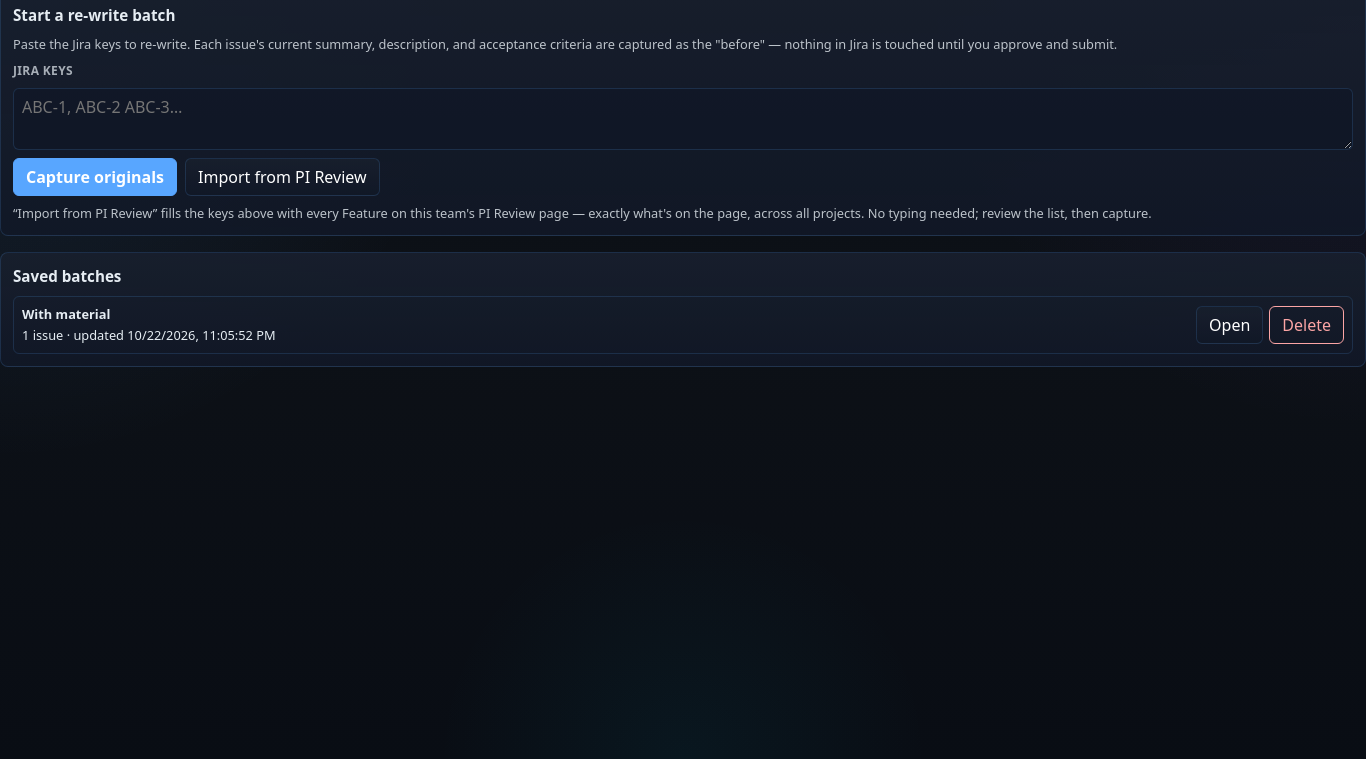
BulkRewriteTab shared material › lists material the batch already carries, so a PO returning days later sees it
The width and height of the screenshot is (1366, 759).
Click the button "Open". click: click(1230, 325)
box: [1196,306,1263,344]
(page scrolled)
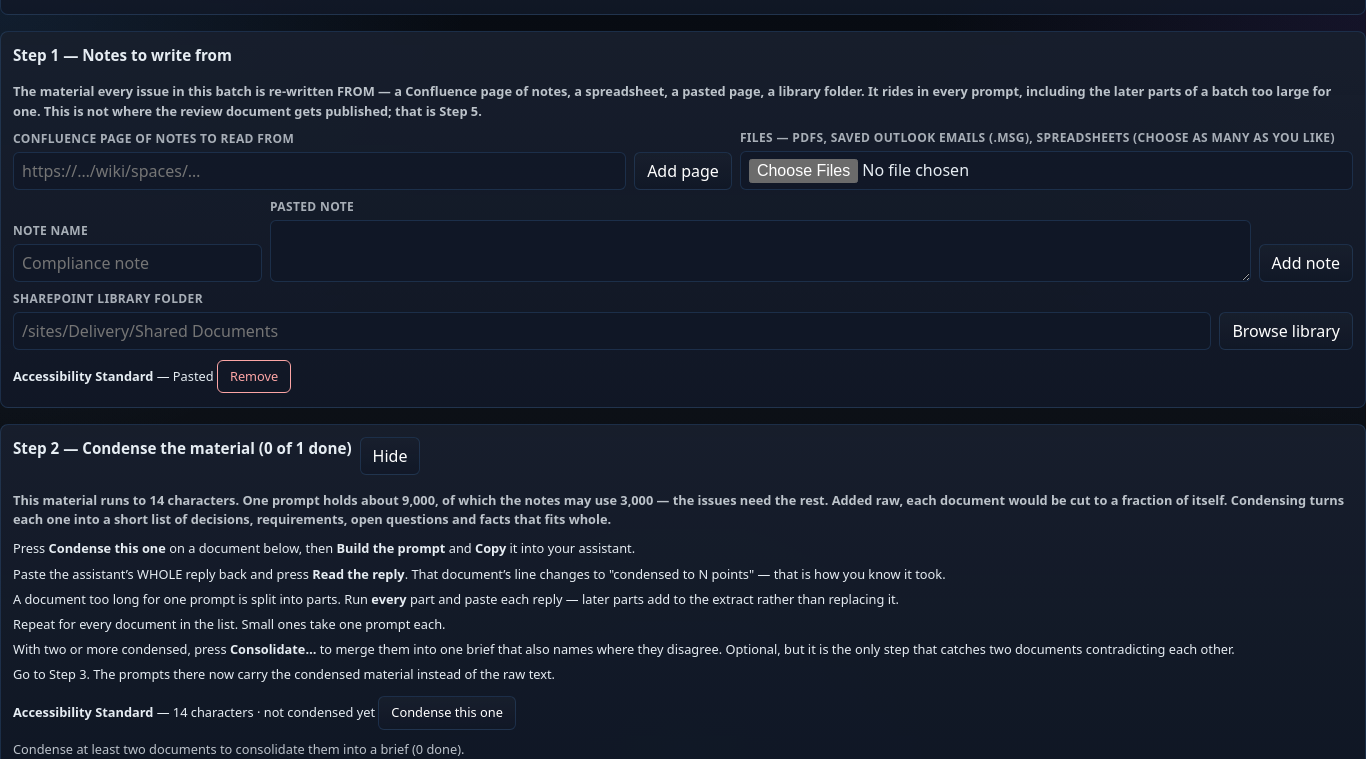
Check: the text "Accessibility Standard" below "SharePoint library folder" is shown, box [13,367,153,385]
